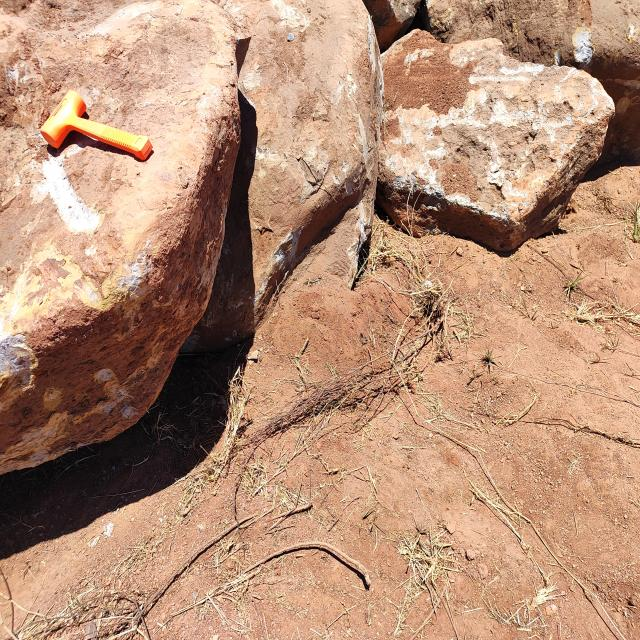Orange_hammer: (39, 89, 154, 162)
